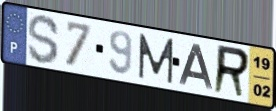7: (64, 19, 93, 69)
9: (107, 29, 135, 77)
A: (177, 42, 215, 92)
M: (137, 32, 176, 86)
R: (211, 43, 252, 100)
S: (26, 13, 62, 67)
